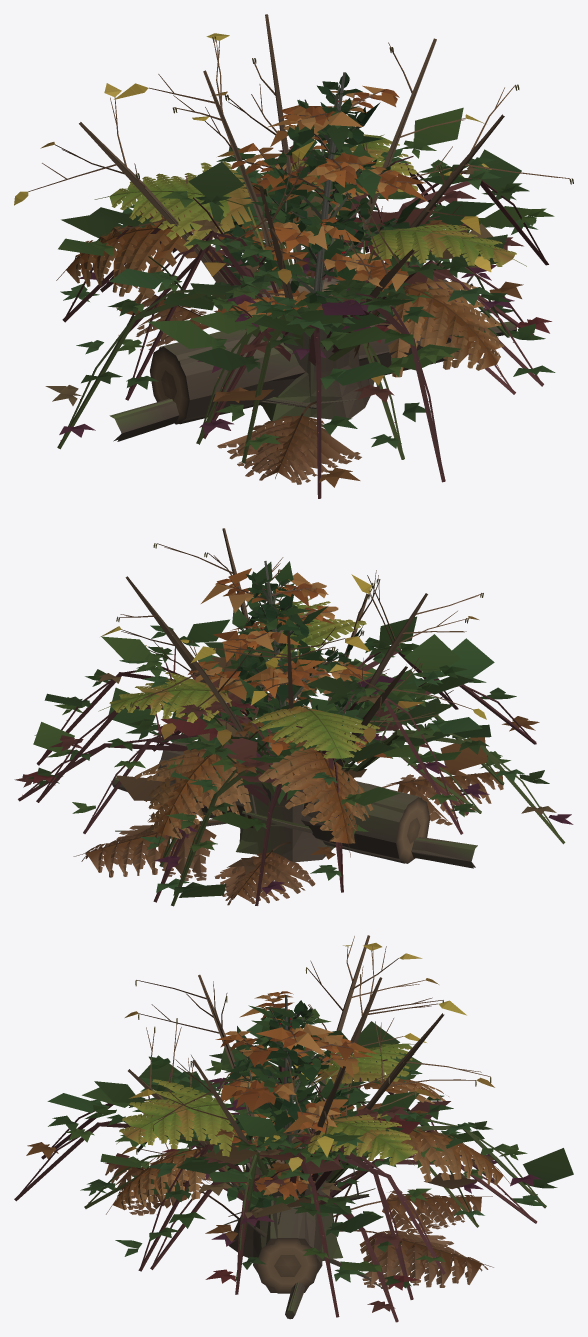
Rendered from undergrowth.glb.
The picture shows the model from 3 angles, top to bottom: view 1: azimuth 30°, elevation 25°; view 2: azimuth 150°, elevation 25°; view 3: azimuth 270°, elevation 25°; orthographic projection. The views are drawn at different scales.
Parts seen in each view (by area): view 1: Bramble1, Bramble2Far, Bramble1Far, Bramble2, BrackenArch, BrackenGreen, Holly, Hazel, Beech, Log, BeechFar, HazelFar (+9 smaller); view 2: Bramble2Far, Bramble1Far, Bramble2, Bramble1, BrackenArch, BrackenGreen, BrackenFlat, Hazel, Log, Holly, Beech, BeechFar (+10 smaller); view 3: Bramble1Far, Bramble1, BrackenGreen, Bramble2, Bramble2Far, BrackenFlat, Hazel, BrackenArch, Holly, BeechFar, Beech, Log (+9 smaller).
Boxes of the visible parts, left/top/right/bottom form: Bramble1: left=115, top=146, right=555, bottom=498; Bramble2Far: left=57, top=107, right=530, bottom=482; Bramble1Far: left=61, top=149, right=548, bottom=498; Bramble2: left=45, top=138, right=523, bottom=481; BrackenArch: left=56, top=178, right=504, bottom=377; BrackenGreen: left=94, top=134, right=526, bottom=287; Holly: left=214, top=73, right=430, bottom=318; Hazel: left=14, top=14, right=573, bottom=385; Beech: left=224, top=72, right=412, bottom=317; Log: left=150, top=279, right=465, bottom=424; BeechFar: left=217, top=72, right=427, bottom=315; HazelFar: left=79, top=14, right=504, bottom=335; Bramble2Far: left=18, top=616, right=565, bottom=905; Bramble1Far: left=36, top=619, right=536, bottom=906; Bramble2: left=14, top=637, right=573, bottom=901; Bramble1: left=34, top=625, right=539, bottom=905; BrackenArch: left=134, top=675, right=373, bottom=857; BrackenGreen: left=98, top=598, right=380, bottom=767; BrackenFlat: left=73, top=771, right=508, bottom=905; Hazel: left=108, top=528, right=486, bottom=782; Log: left=157, top=741, right=430, bottom=863; Holly: left=214, top=571, right=376, bottom=772; Beech: left=188, top=561, right=366, bottom=763; BeechFar: left=201, top=561, right=391, bottom=758; Bramble1Far: left=41, top=1030, right=573, bottom=1317; Bramble1: left=26, top=1009, right=557, bottom=1312; BrackenGreen: left=116, top=1043, right=417, bottom=1191; Bramble2: left=19, top=1038, right=496, bottom=1322; Bramble2Far: left=14, top=1017, right=494, bottom=1322; BrackenFlat: left=105, top=1165, right=493, bottom=1289; Hazel: left=121, top=935, right=494, bottom=1178; BrackenArch: left=106, top=1078, right=511, bottom=1222; Holly: left=206, top=1000, right=353, bottom=1207; BeechFar: left=176, top=995, right=377, bottom=1199; Beech: left=189, top=991, right=359, bottom=1196; Log: left=253, top=1128, right=321, bottom=1293.
Bounding box in the file's own units: 2.58 × 1.39 × 2.68.
